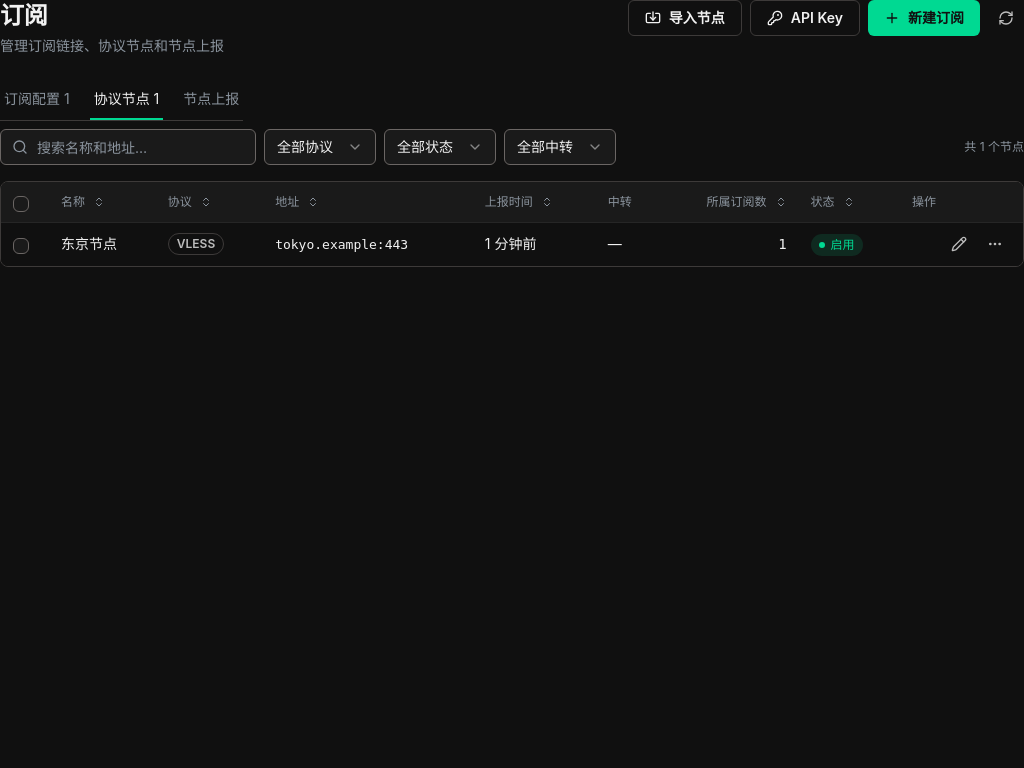
Scenario: 订阅重构真实页面 › 中转诊断使用共享抽屉显示全部检查项
Press the mouse on the button named "东京节点 更多操作": (995, 244) [979,228,1011,260]
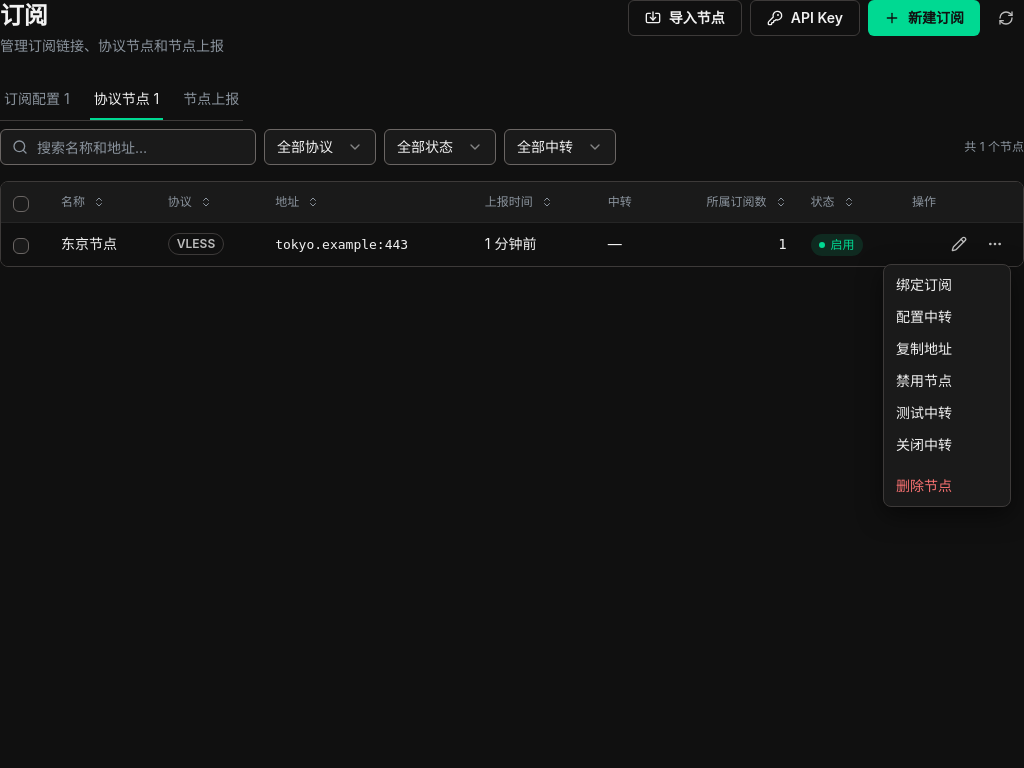
Click the menu item "测试中转": (924, 412) [896,404,952,421]
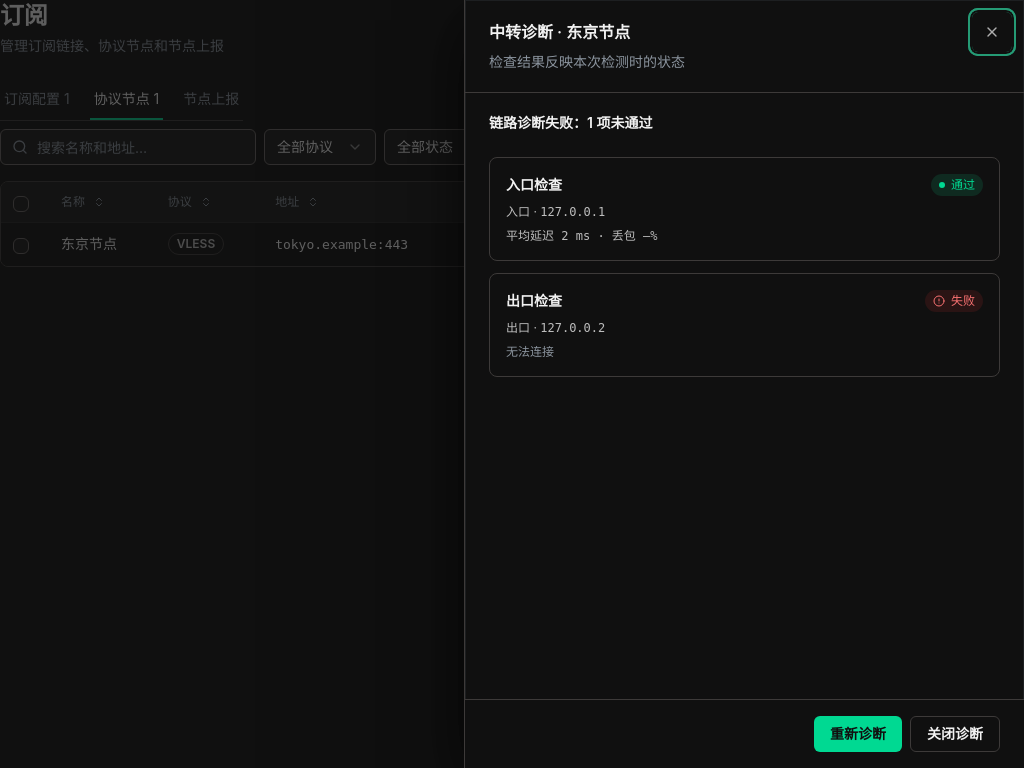
Expected: the heading "中转诊断 · 东京节点" is shown, [489,22,630,42]
Expected: the heading "入口检查" is shown, [506,175,562,195]
Expected: the heading "出口检查" is shown, [506,291,562,311]
